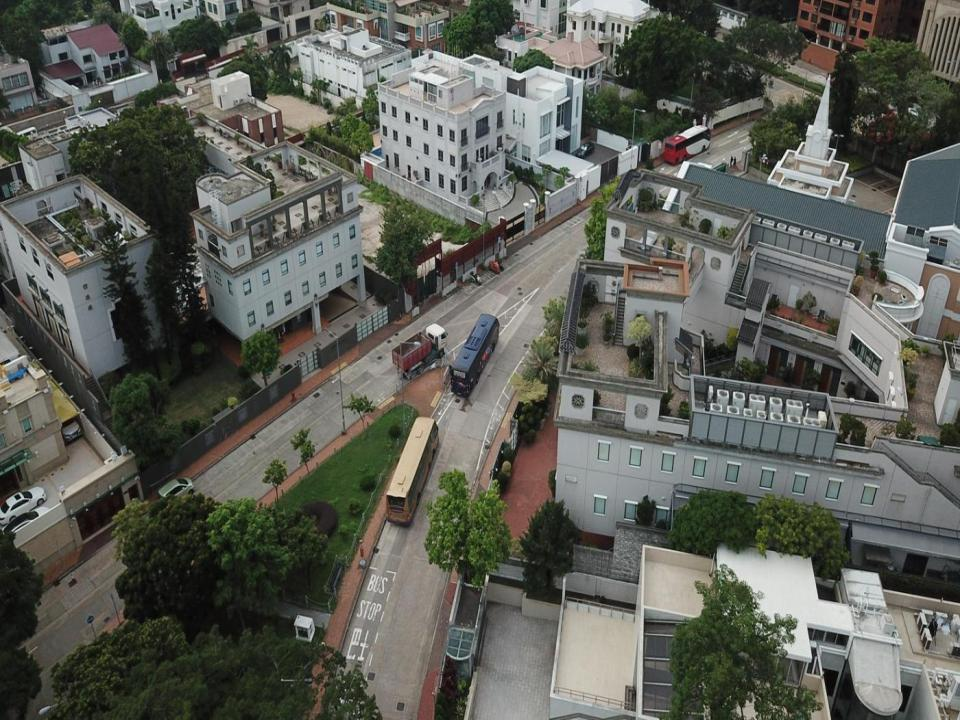bus: (388, 416, 438, 524), (451, 310, 499, 399), (664, 126, 712, 166)
car: (0, 485, 46, 526), (50, 393, 82, 441), (894, 98, 935, 132), (158, 477, 196, 503), (577, 142, 595, 158)
truck: (392, 324, 448, 378)
van: (1, 505, 52, 536)
